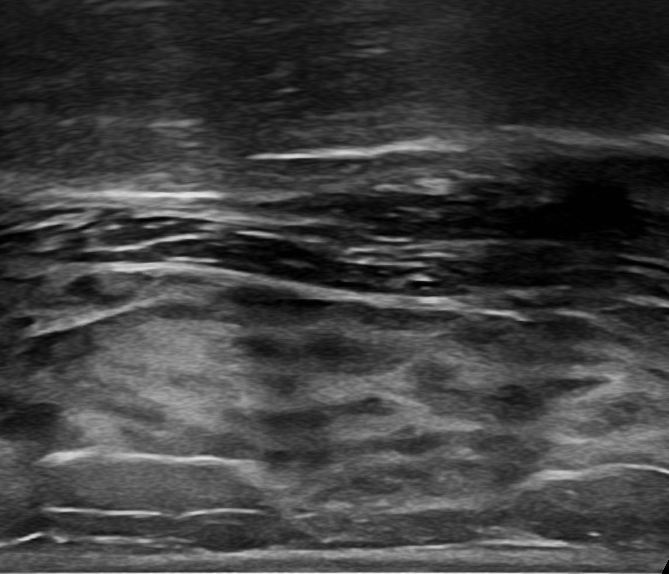Normal: (4, 30, 669, 554)
